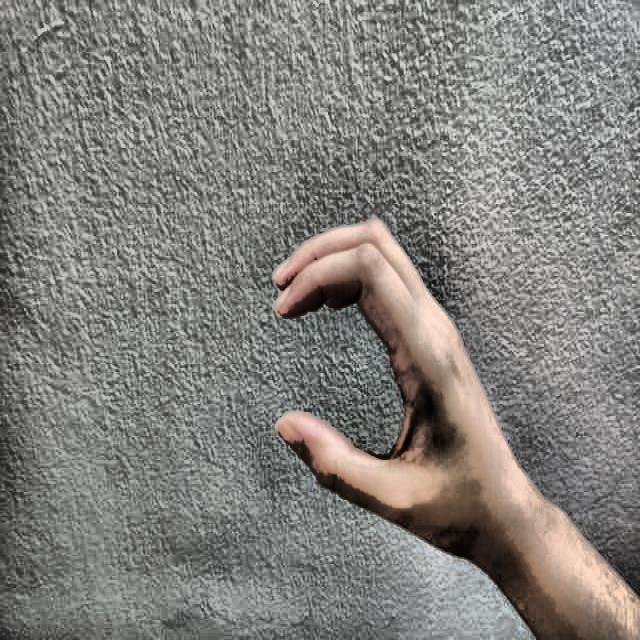A: (250, 187, 478, 584)
